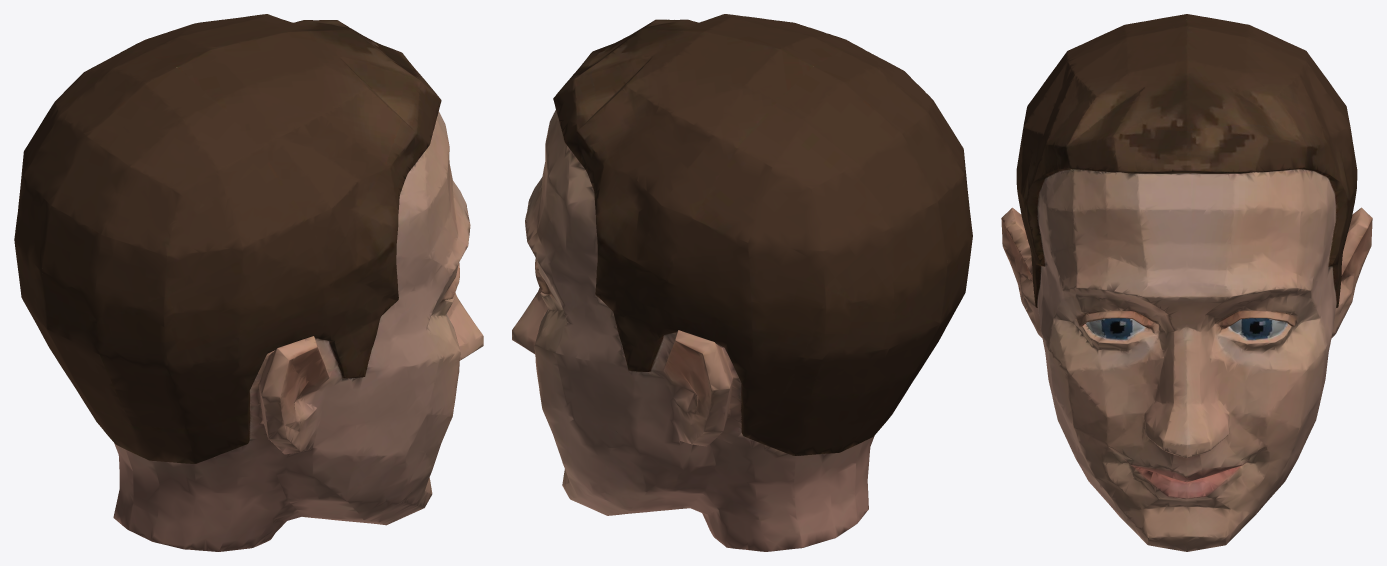
Rendered from mark.glb.
3 renders of one model, left to right at view 1: azimuth 30°, elevation 25°; view 2: azimuth 150°, elevation 25°; view 3: azimuth 270°, elevation 25°, orthographic. The views are drawn at different scales.
Parts seen in each view (by area): view 1: threedium_node_cc111b9f-d2a0-4ffc-bd79-baa78af208cf; view 2: threedium_node_cc111b9f-d2a0-4ffc-bd79-baa78af208cf; view 3: threedium_node_cc111b9f-d2a0-4ffc-bd79-baa78af208cf.
Boxes of the visible parts, box(x1,y1,x2,y2) form: threedium_node_cc111b9f-d2a0-4ffc-bd79-baa78af208cf: box(14, 14, 483, 551); threedium_node_cc111b9f-d2a0-4ffc-bd79-baa78af208cf: box(512, 14, 972, 551); threedium_node_cc111b9f-d2a0-4ffc-bd79-baa78af208cf: box(1001, 14, 1372, 551).
Size of the model in its own units: 0.901 by 1 by 0.7478.
1 material, 1 textured.
